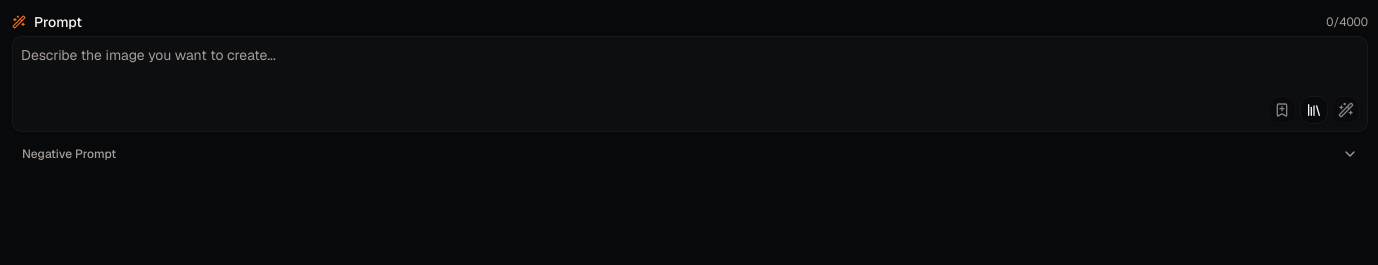
Test case: PromptSection › negative prompt SavePromptButton disabled state › enables negative save button when negative prompt has content
# Open negative prompt section
Click the button with test id "negative-prompt-toggle" at [69, 154], box top-left (12, 138), bottom-right (1368, 170)
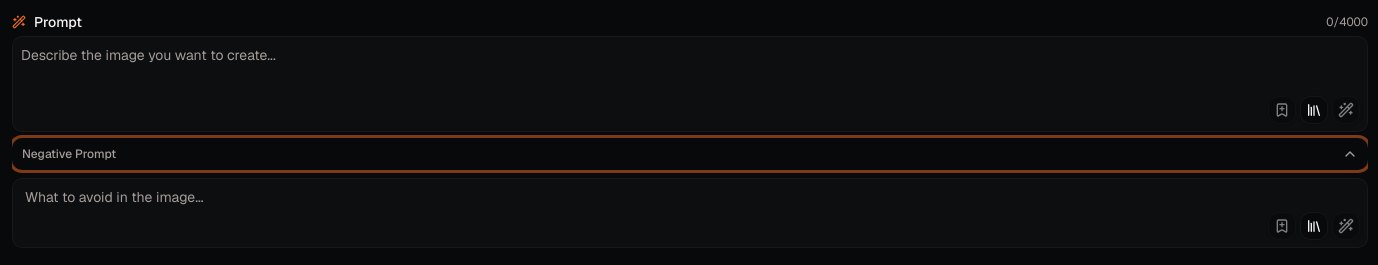
# Type in negative prompt
Type "blurry, low quality" into the text box with test id "negative-prompt-input" at [690, 213], box top-left (12, 178), bottom-right (1368, 248)
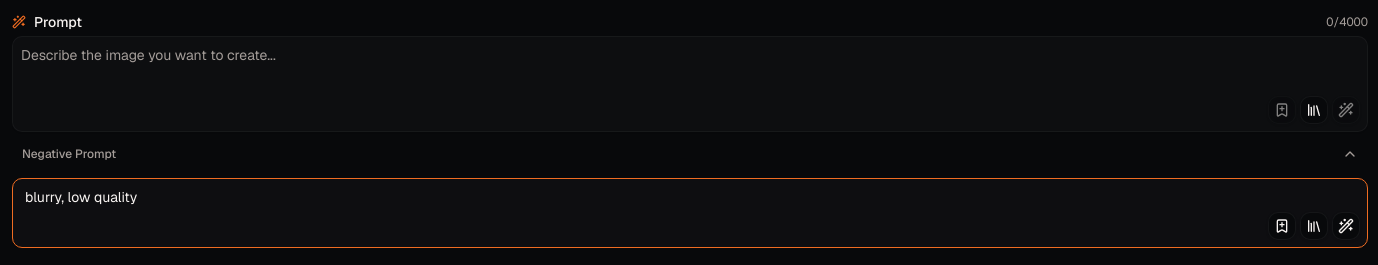
Now the button with test id "save-prompt-button" is enabled, box top-left (1268, 212), bottom-right (1296, 240)
